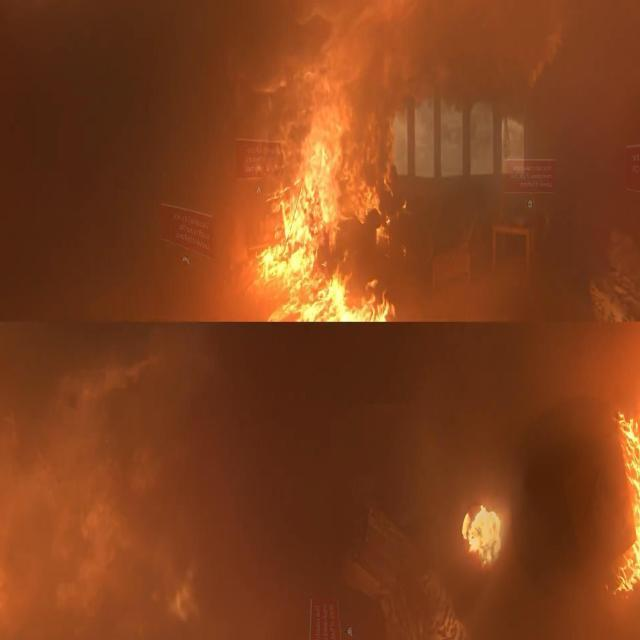smoke: (249, 76, 395, 325), (611, 391, 640, 598), (462, 496, 502, 577)
